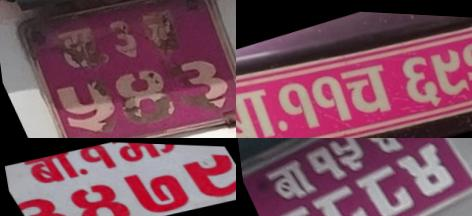1: (299, 62, 357, 132), (266, 73, 325, 138), (297, 138, 347, 189), (74, 141, 122, 175)
2: (450, 31, 472, 91)
3: (166, 48, 235, 115), (100, 14, 142, 61), (11, 190, 76, 216)
4: (104, 60, 177, 131), (389, 138, 462, 204), (54, 174, 136, 216)
5: (46, 69, 122, 138), (322, 138, 375, 176)
6: (385, 44, 447, 115)
7: (114, 159, 201, 216)
8: (348, 158, 418, 216), (304, 179, 374, 216), (256, 197, 329, 216)
9: (173, 146, 236, 206), (421, 37, 472, 100)
ba: (16, 147, 95, 193), (256, 153, 319, 208), (46, 19, 107, 74), (236, 75, 284, 138)
cha: (331, 50, 403, 123), (137, 3, 184, 53), (353, 138, 411, 161)
jha: (108, 141, 185, 169)
